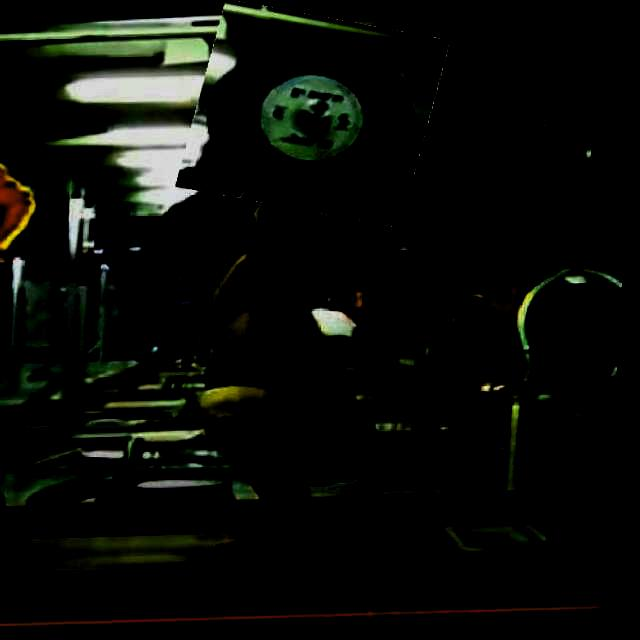barbell: (186, 8, 444, 225)
